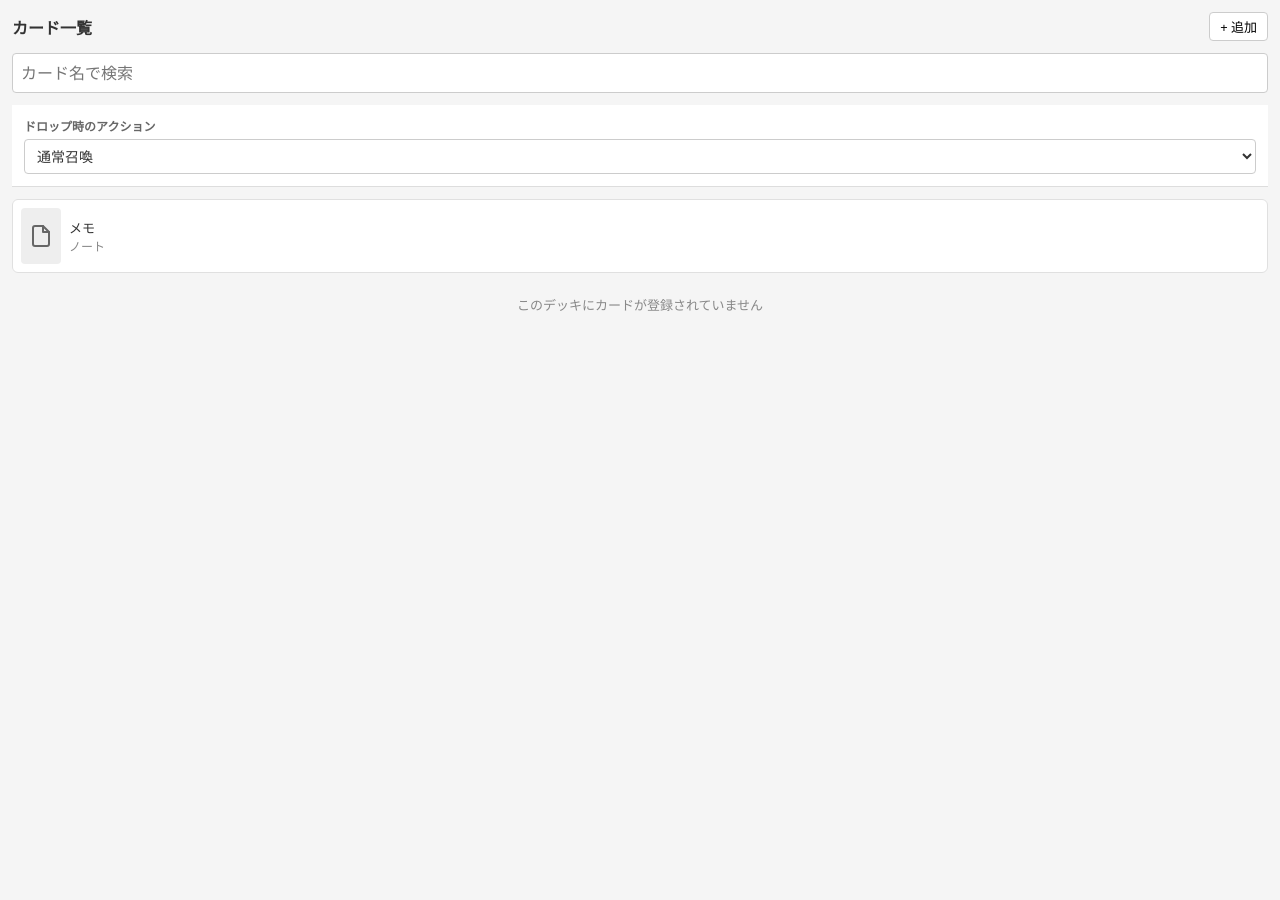
Test: CardList › 追加ボタンでカードフォームを開く
Click the button "+ 追加".
click(1239, 26)  # box [1209,12,1268,41]
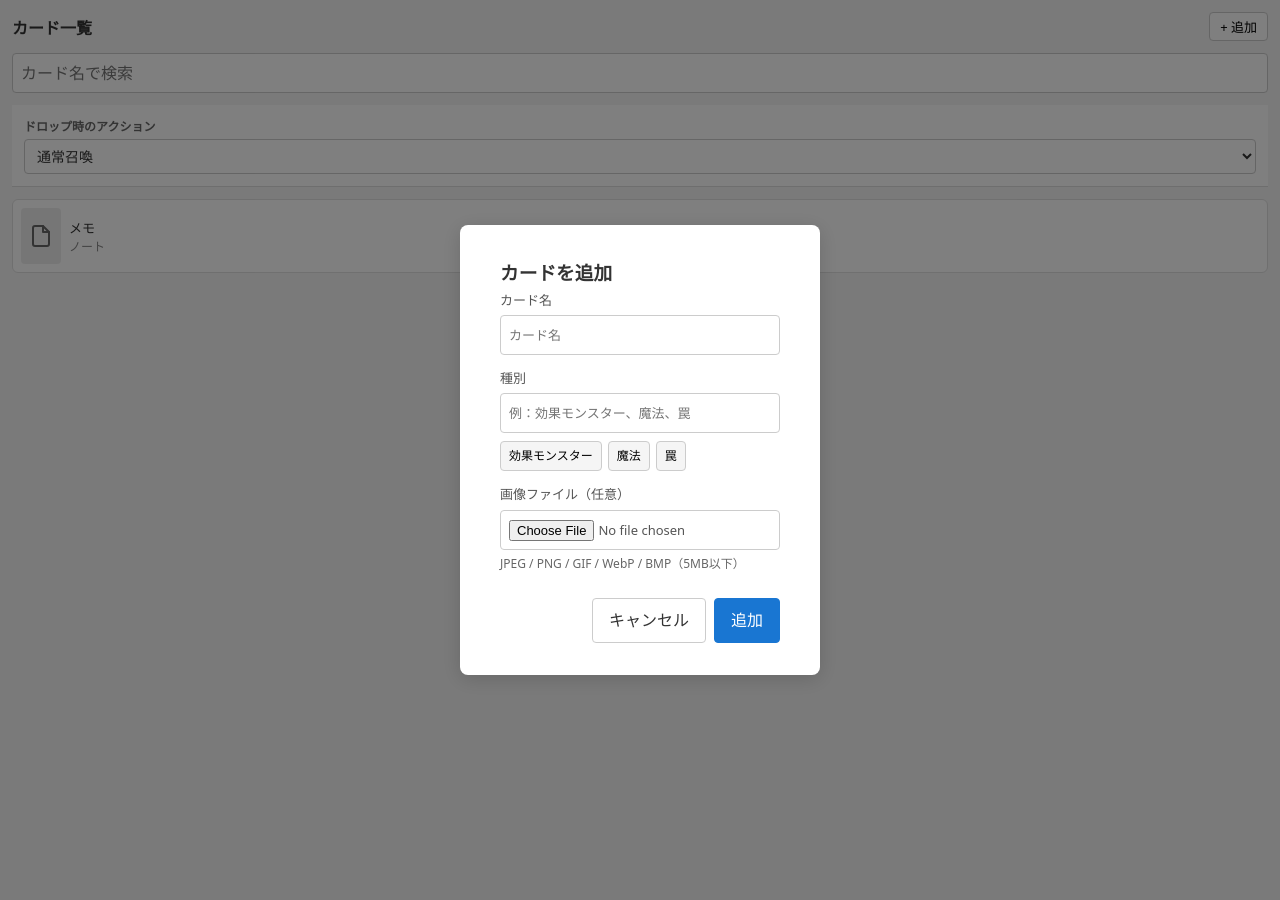
Expected: the heading "カードを追加" is shown, [500,260,612,285]
